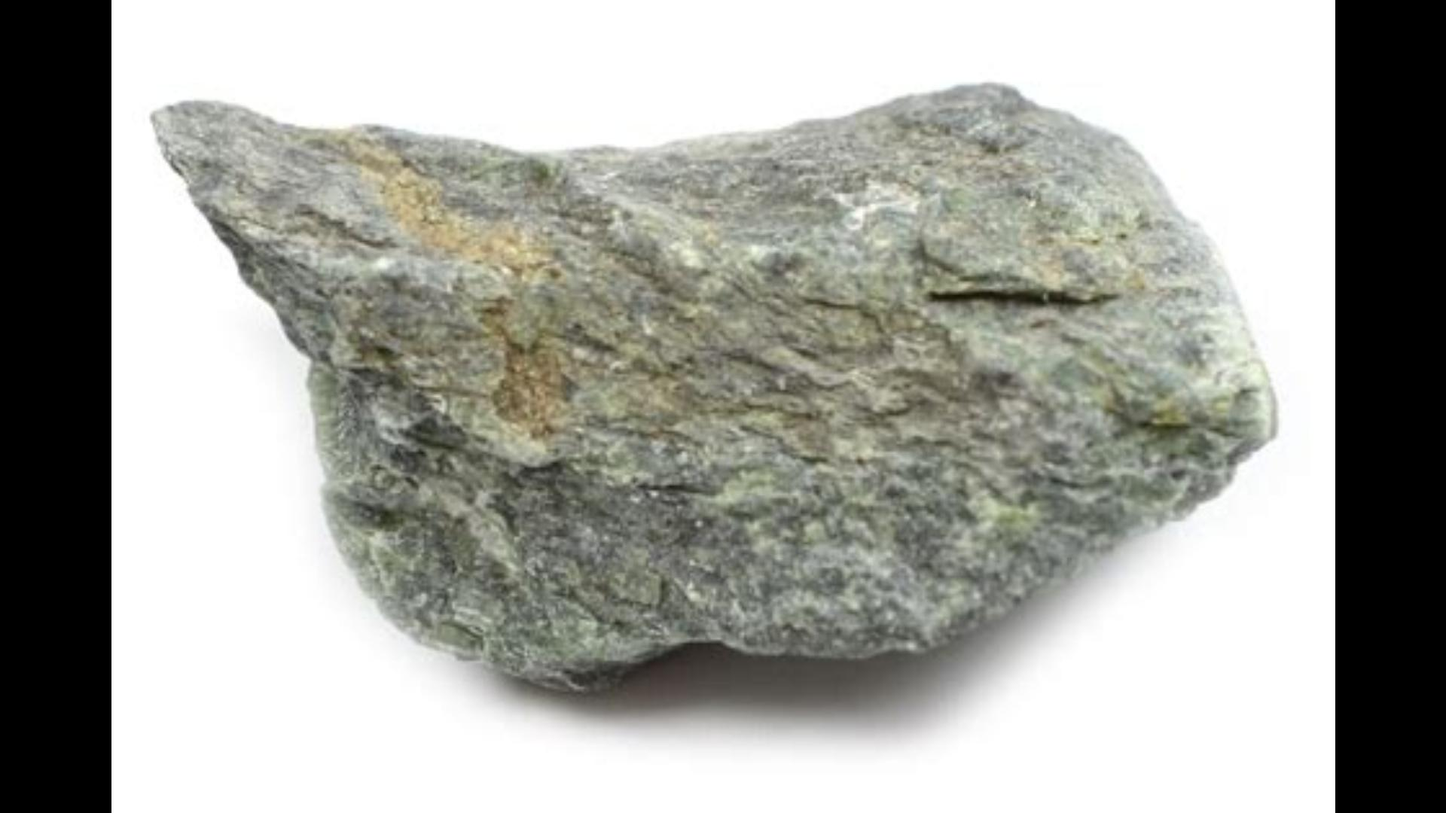rock: (152, 88, 1273, 687)
